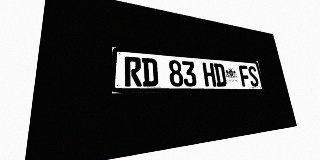3: (182, 61, 197, 87)
8: (168, 60, 184, 87)
D: (142, 58, 158, 87), (213, 63, 227, 87)
F: (238, 65, 251, 87)
H: (202, 62, 216, 87)
R: (124, 56, 142, 86)
S: (247, 66, 259, 87)
